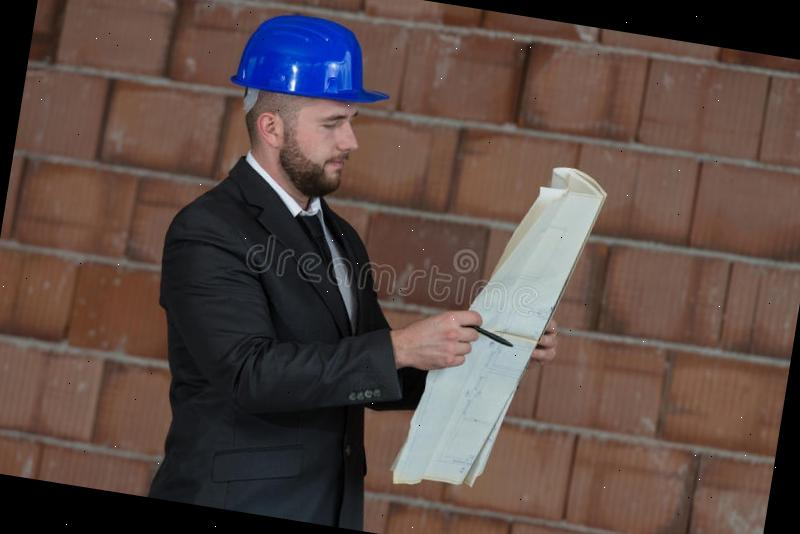helmet: (223, 6, 402, 122)
no_wear: (133, 186, 416, 532)
